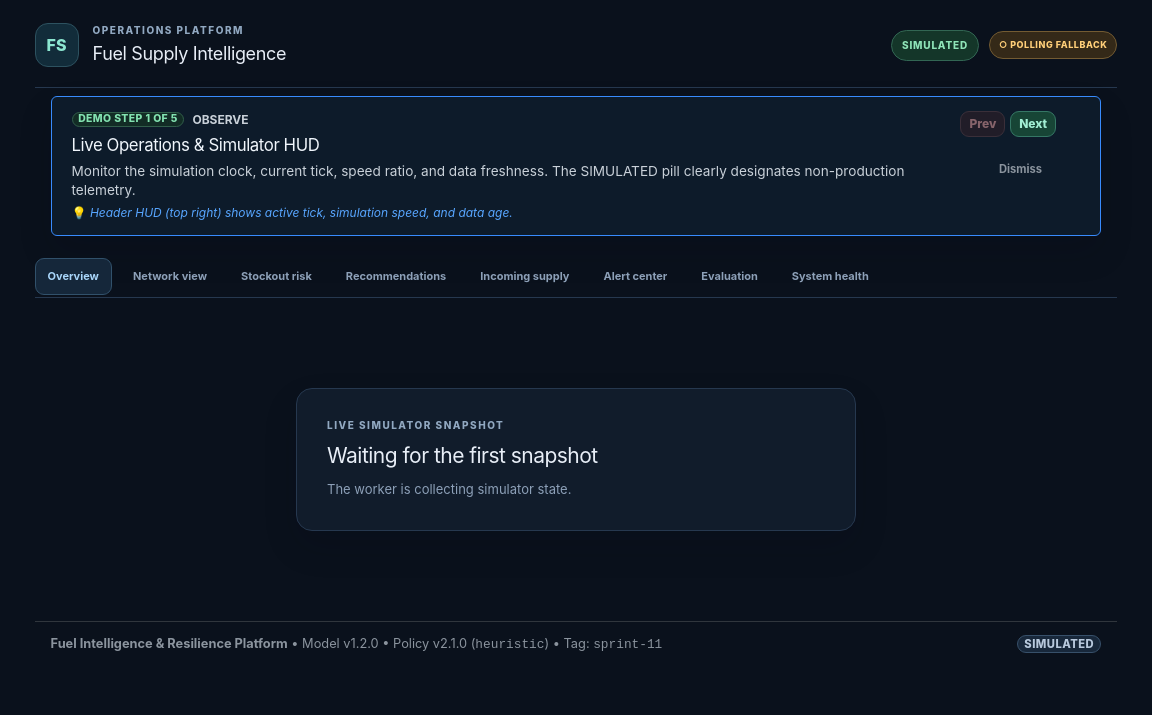
Test case: operator application › blocks operator decisions when stored summary fields differ from the persisted request
What coordinates should you click on to do the following:
click the button "Recommendations"
I would click on:
 (396, 277)
Its box is left=333, top=258, right=459, bottom=295.
(page scrolled)
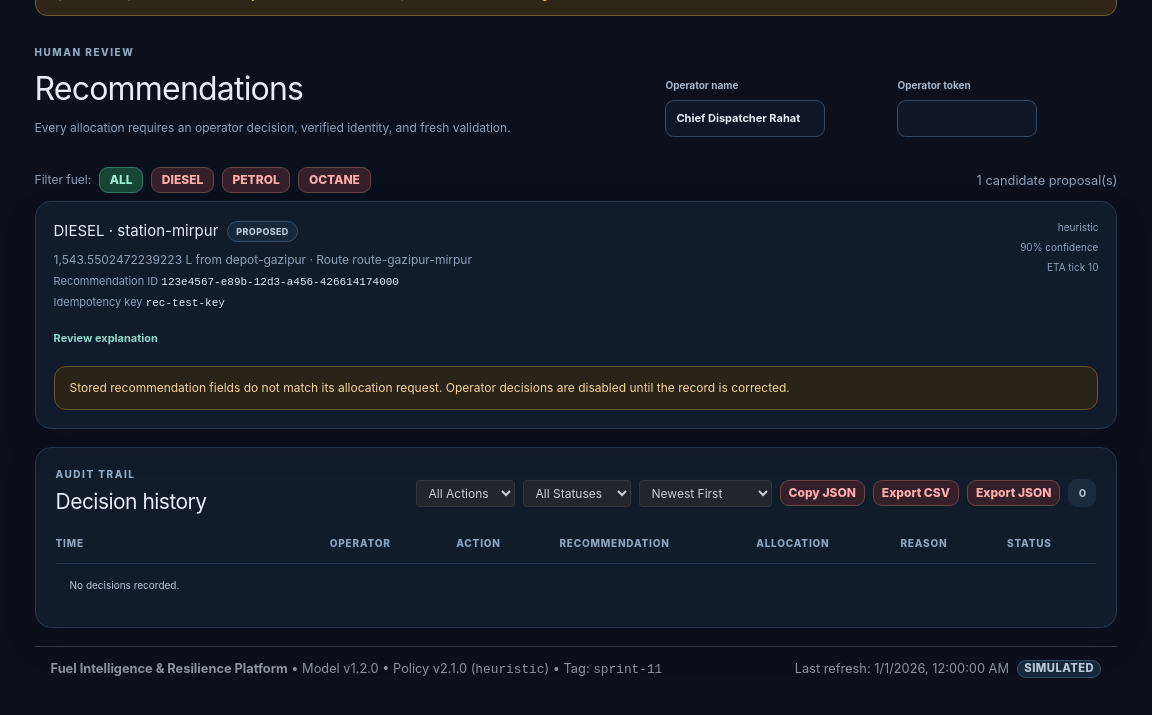
Expected: the 2nd message shows "do not match its allocation request", left=70, top=380, right=790, bottom=395
